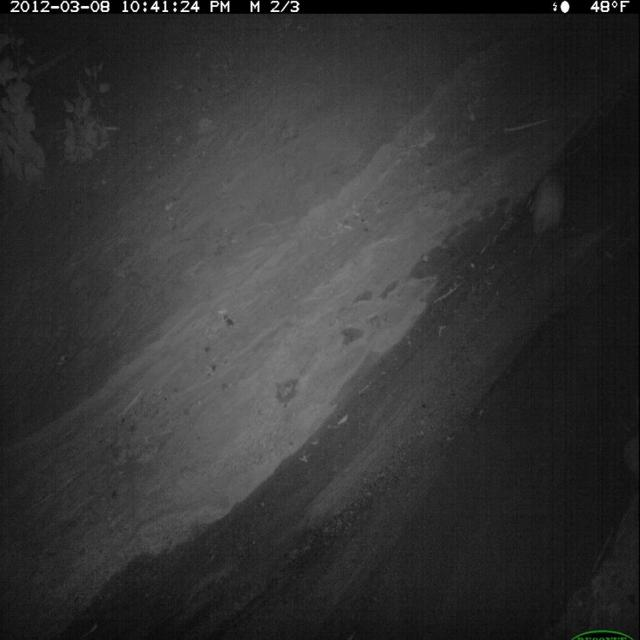opossum: (522, 160, 576, 272)
